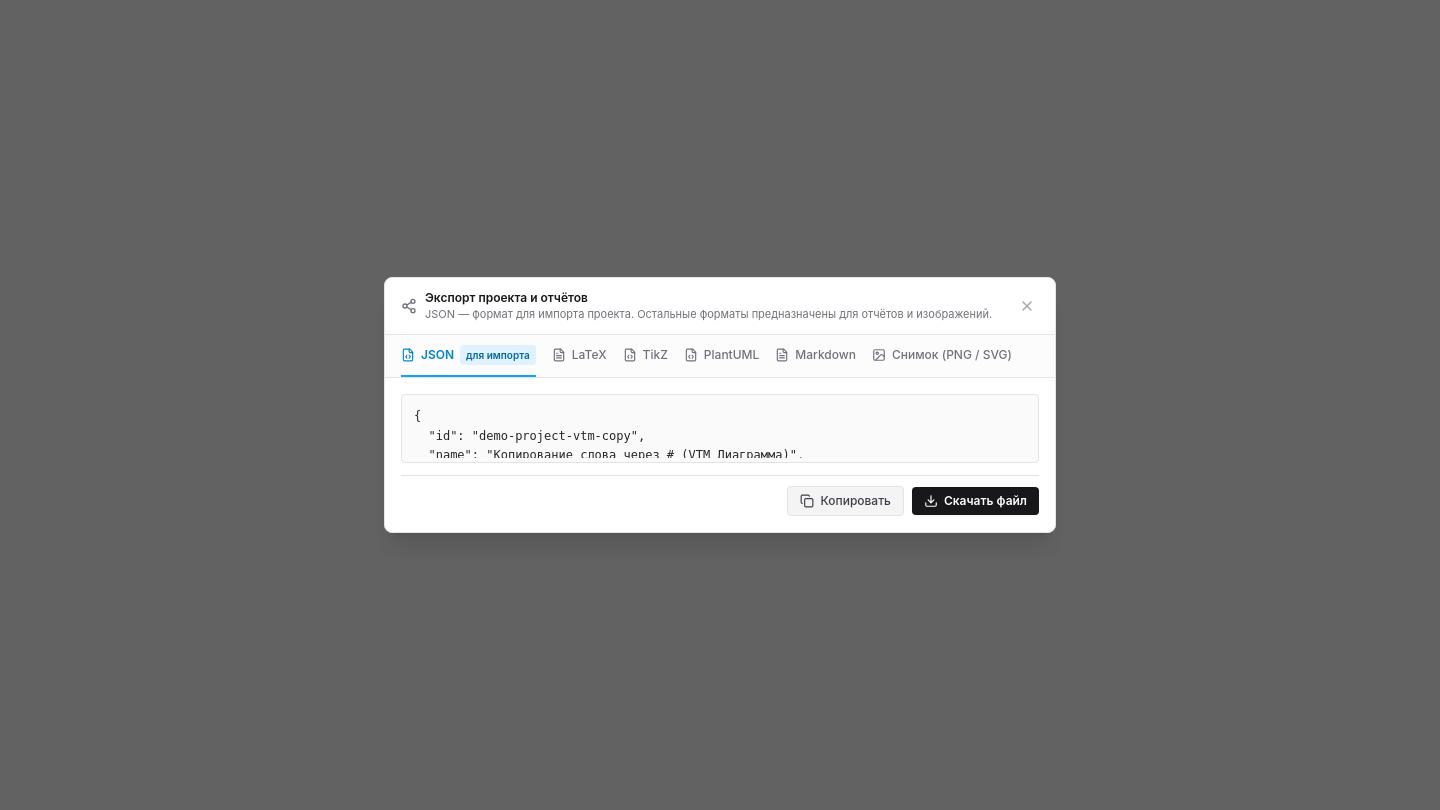
React UI Components › ExportModal renders TikZ tab with tikzpicture output
What coordinates should you click on to do the following:
click the button "TikZ"
I would click on:
 (645, 356)
Its box is [623, 335, 668, 377].
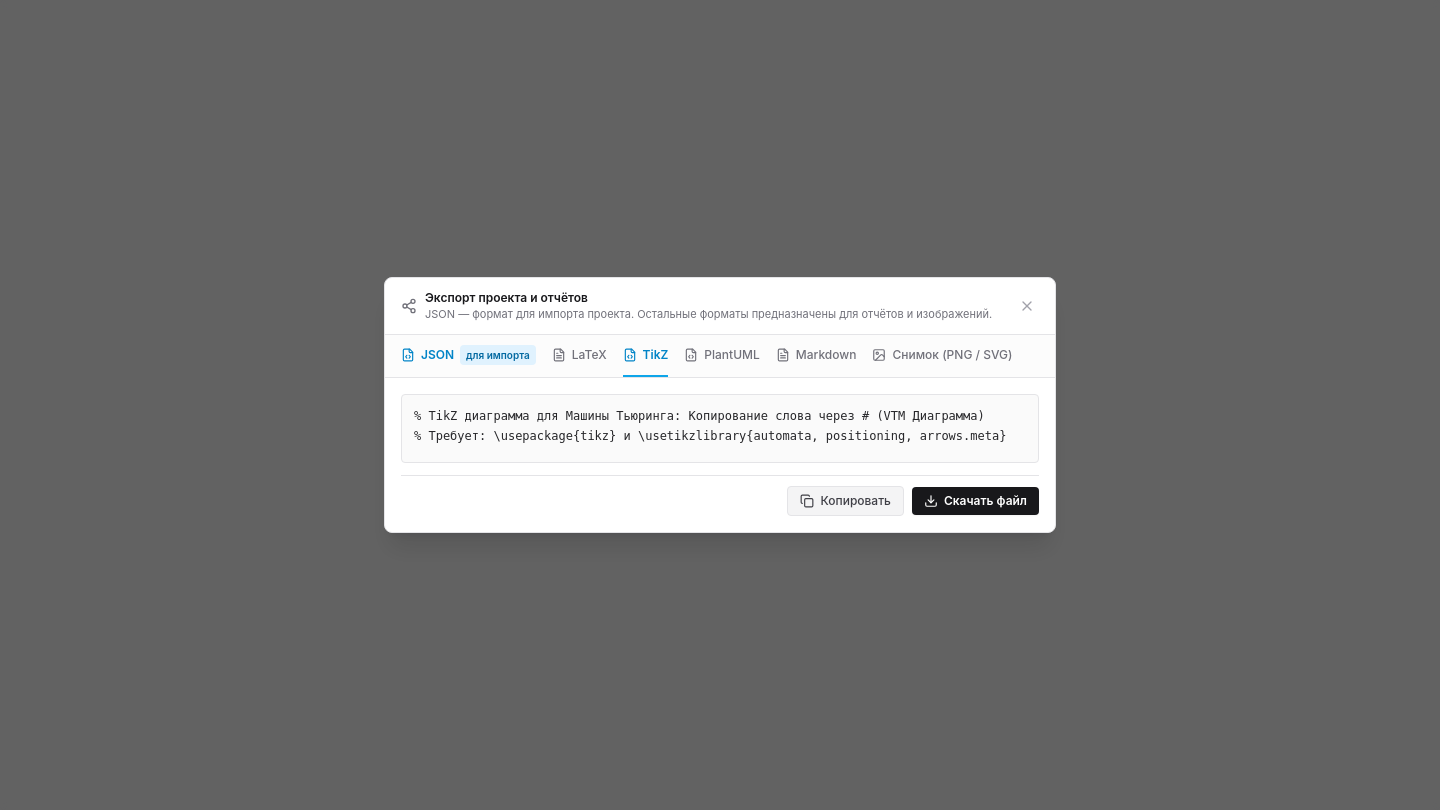
Expected: the text box showing "\\begin{tikzpicture}" is shown, [402, 395, 1038, 458]
